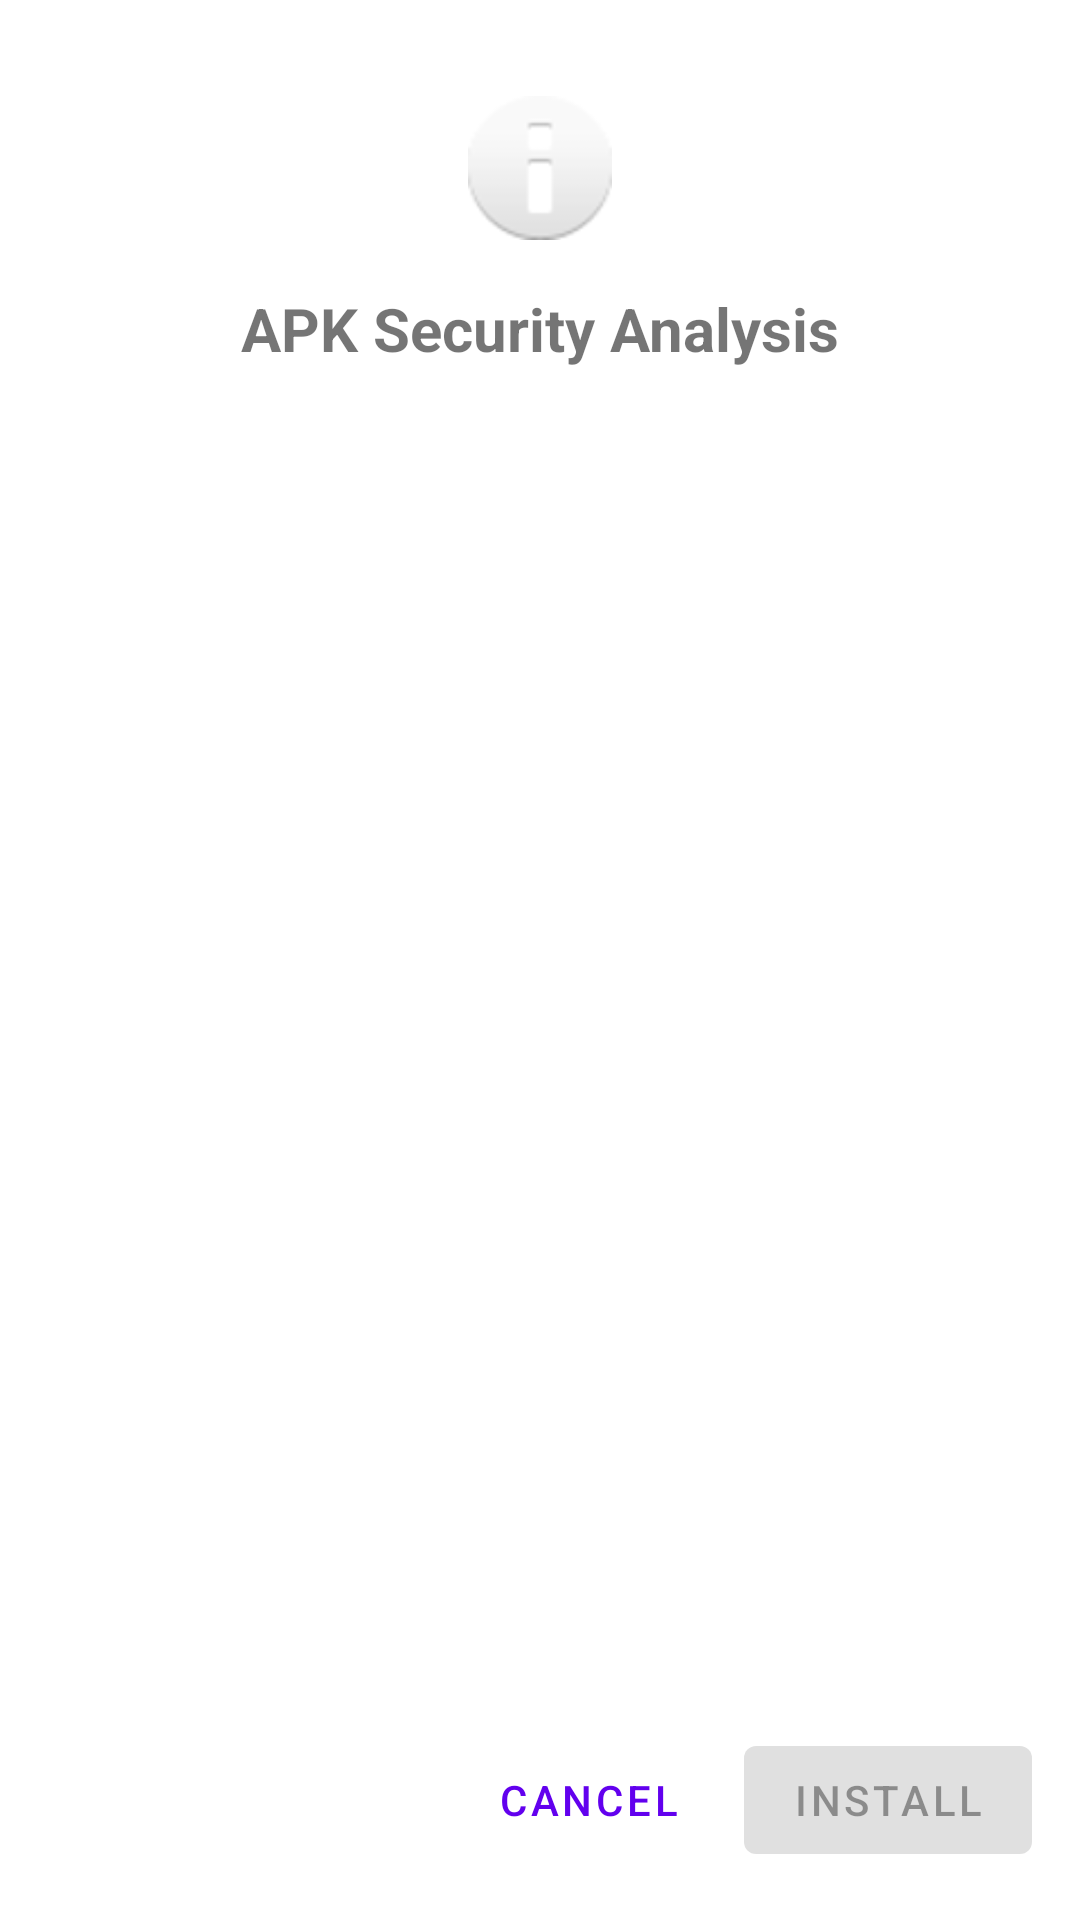

Screen size 1080px×1920px. Icon name, then its center in pixels as (x,y):
info: (540,181)
